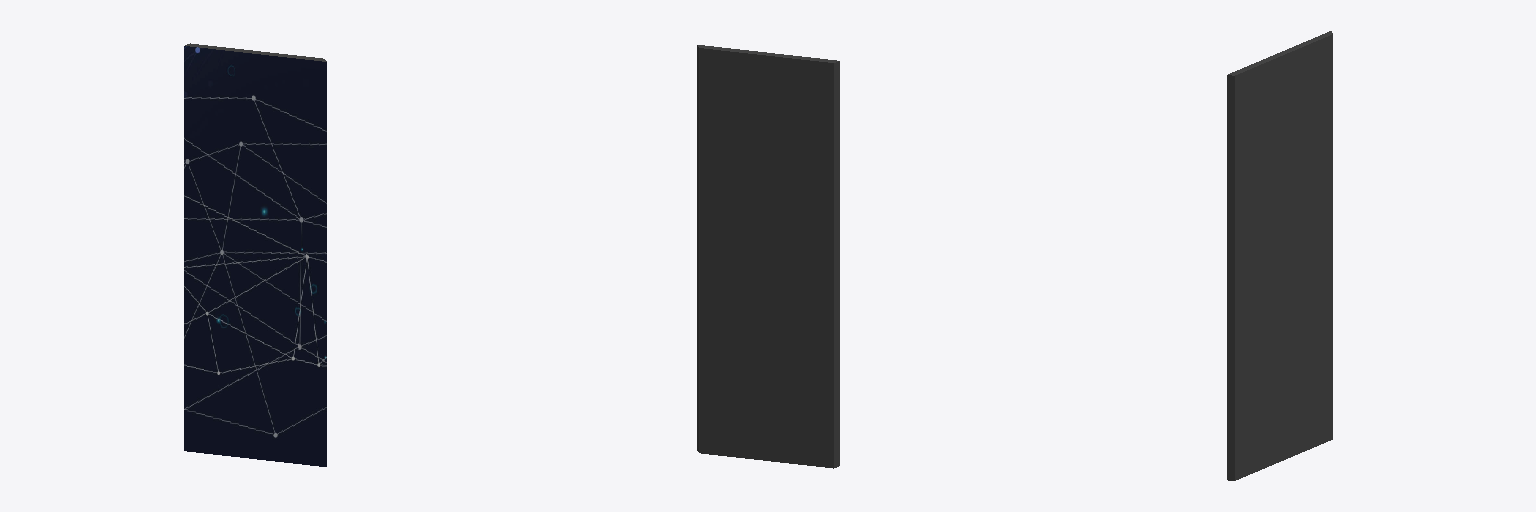
3 renders of one model, left to right at view 1: azimuth 30°, elevation 25°; view 2: azimuth 210°, elevation 25°; view 3: azimuth 270°, elevation 25°, orthographic.
Parts seen in each view (by area): view 1: Mesh159_Component_16_3_Group142_Group129_Model; view 2: Mesh159_Component_16_3_Group142_Group129_Model; view 3: Mesh159_Component_16_3_Group142_Group129_Model.
Boxes of the visible parts, x1,y1,x2,y2 form: Mesh159_Component_16_3_Group142_Group129_Model: [184, 43, 326, 466]; Mesh159_Component_16_3_Group142_Group129_Model: [697, 45, 839, 468]; Mesh159_Component_16_3_Group142_Group129_Model: [1227, 31, 1332, 480].
Size of the model in its own units: 30 by 126 by 29.99.
2 materials, 1 textured.